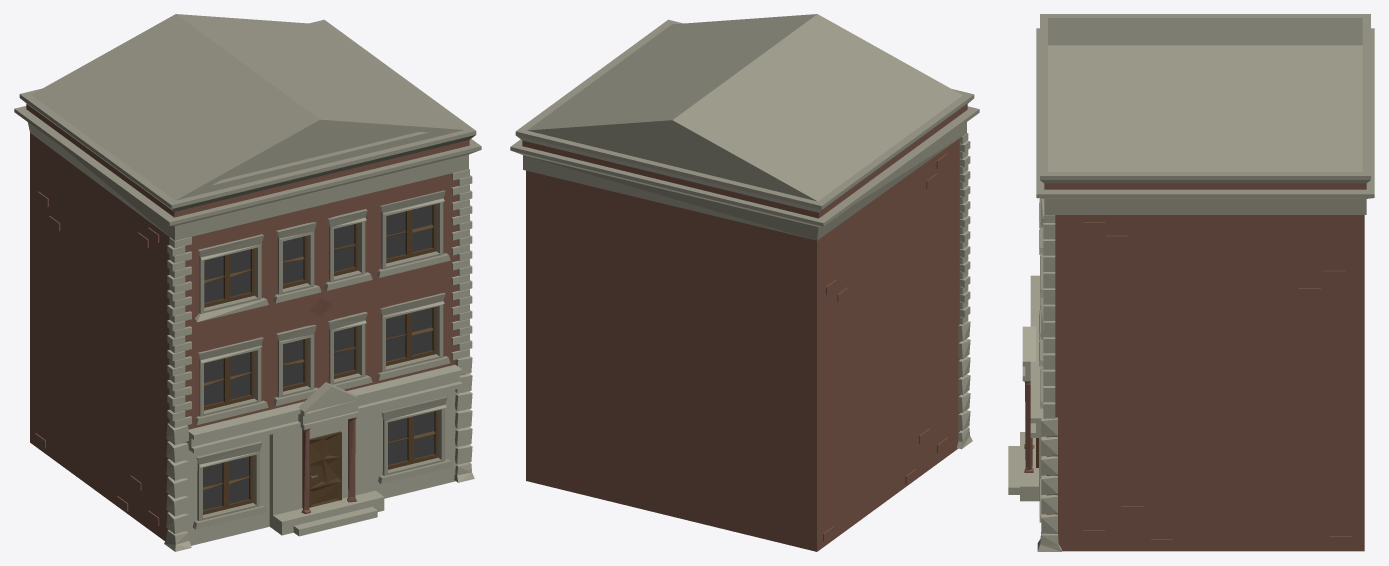
File: b_building3_big.glb
3 renders of one model, left to right at view 1: azimuth 30°, elevation 25°; view 2: azimuth 150°, elevation 25°; view 3: azimuth 270°, elevation 25°, orthographic. The views are drawn at different scales.
Visible parts, largest first — view 1: Building3_Big; view 2: Building3_Big; view 3: Building3_Big.
Part boxes in pixels (x1,y1,x2,y2): Building3_Big: (14,14,481,551); Building3_Big: (510,14,979,551); Building3_Big: (1008,14,1374,551).
Size of the model in its own units: 4.71 by 5.68 by 4.39.
